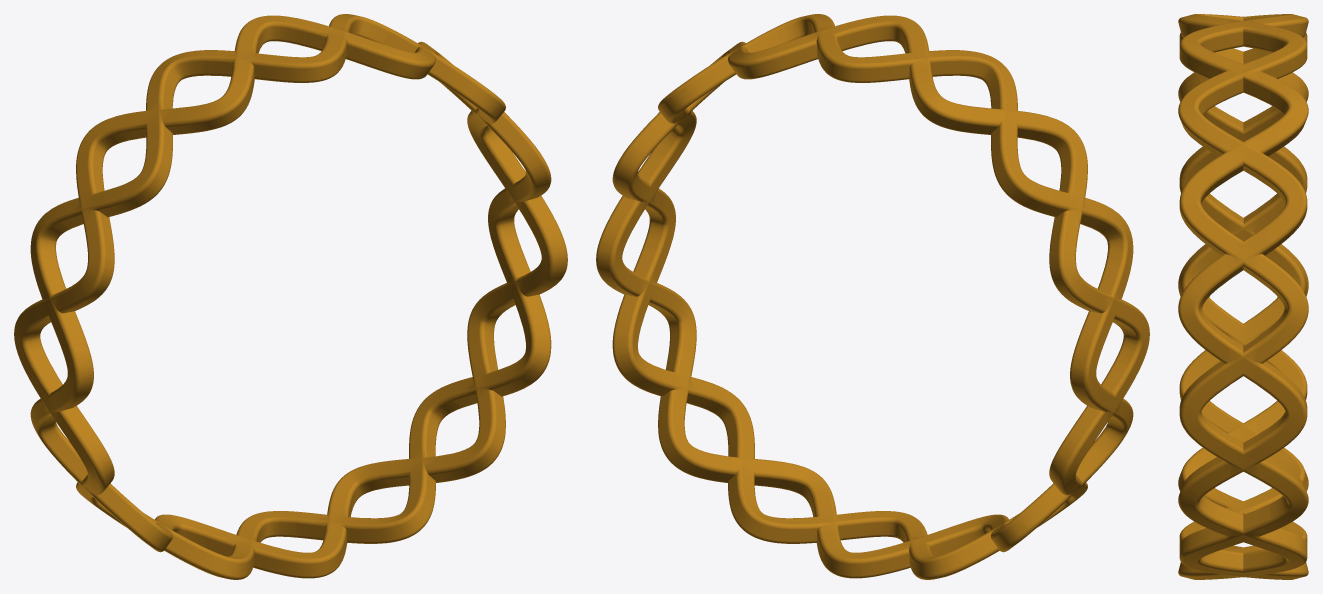
The model's file is gelang_6.glb.
3 renders of one model, left to right at view 1: azimuth 30°, elevation 25°; view 2: azimuth 150°, elevation 25°; view 3: azimuth 270°, elevation 25°, orthographic.
Parts seen in each view (by area): view 1: Object_2; view 2: Object_2; view 3: Object_2.
Part boxes in pixels (left/top/right/bottom): Object_2: left=14, top=14, right=567, bottom=579; Object_2: left=596, top=14, right=1149, bottom=579; Object_2: left=1178, top=14, right=1308, bottom=579.
Bounding box in the file's own units: 4.32 × 4.32 × 0.9993.
